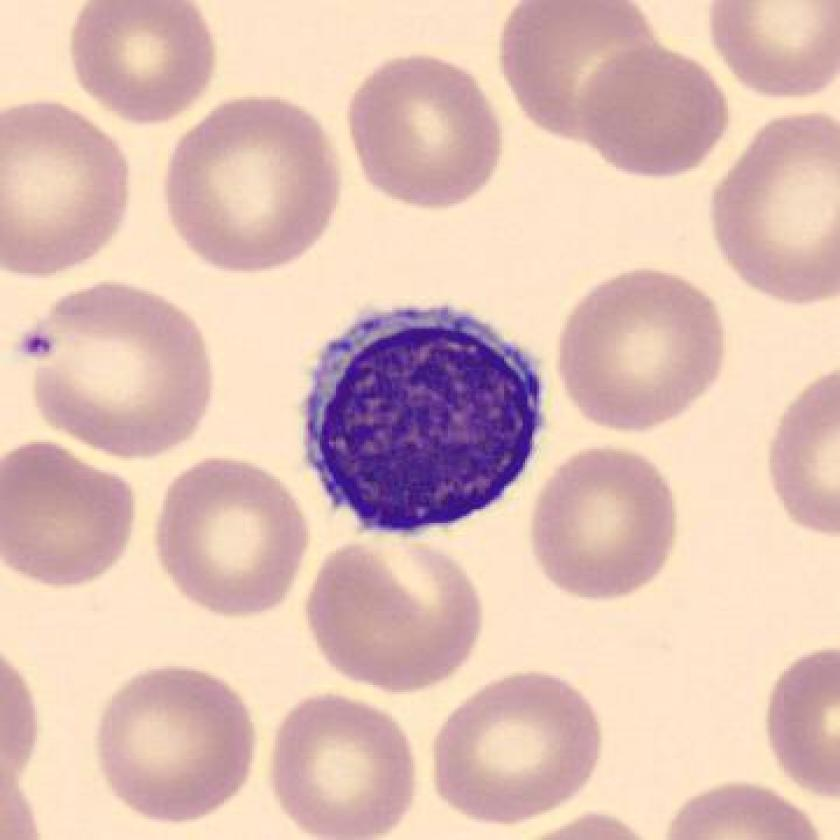lymphocyte: (288, 293, 556, 547)
